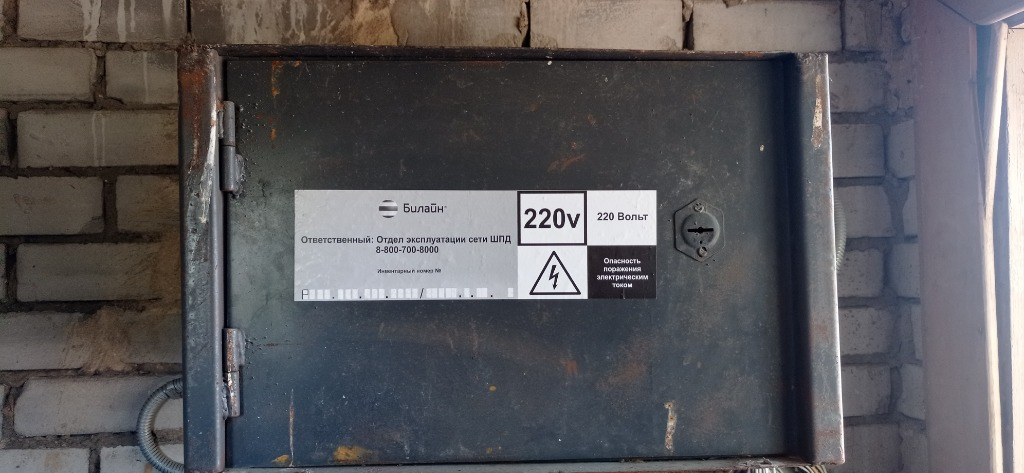e2-6u: (173, 37, 848, 468)
